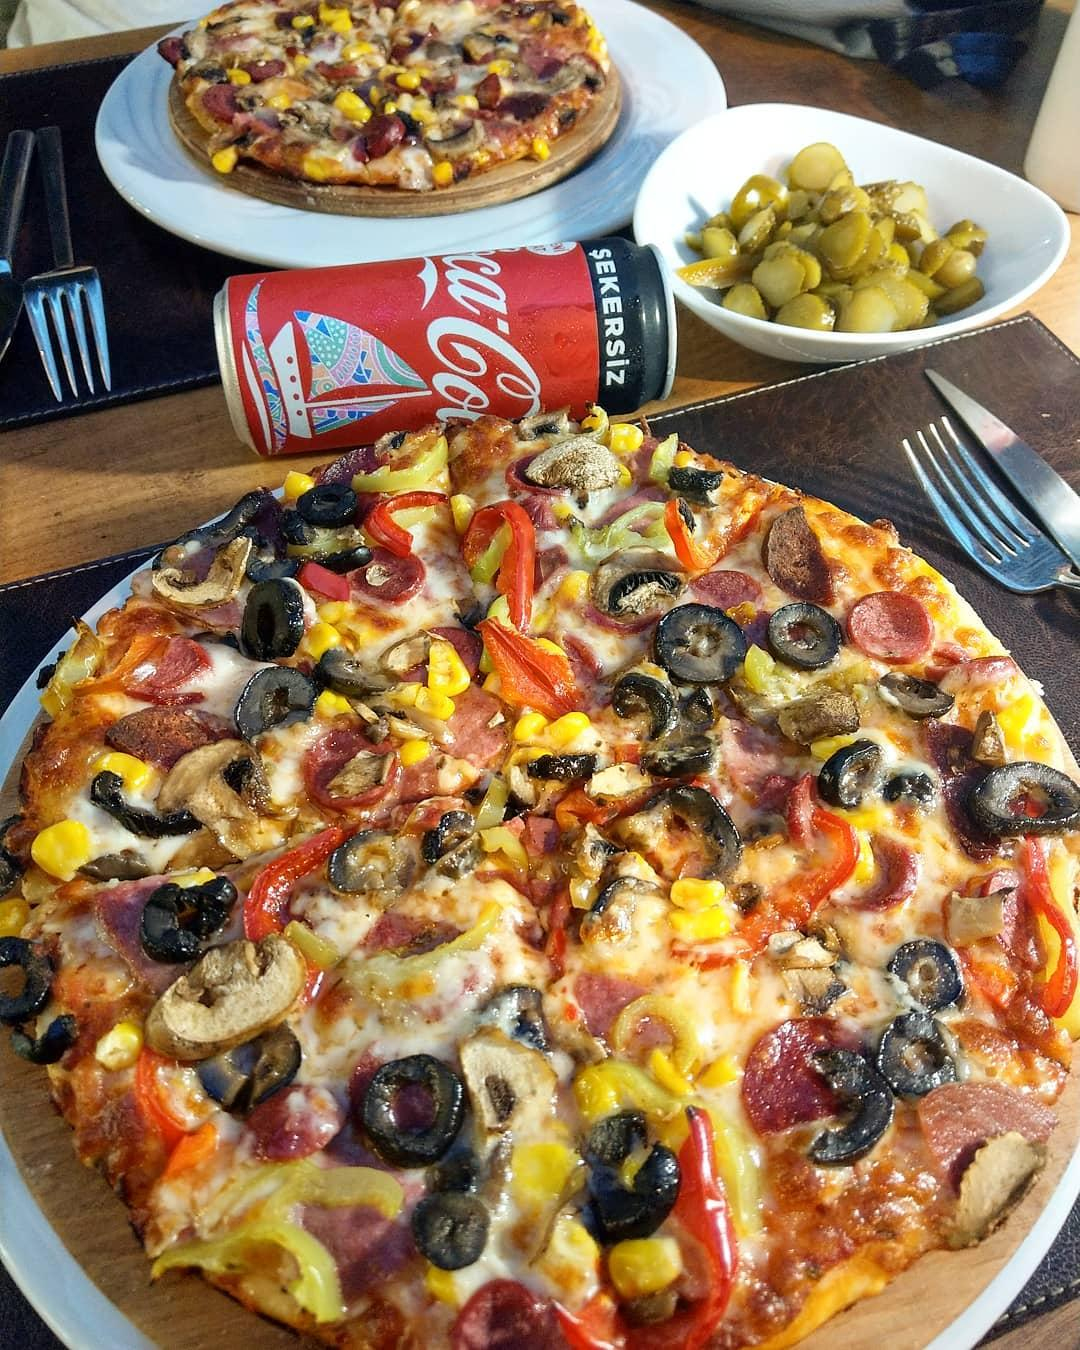Corn: (533, 1218, 601, 1292), (28, 819, 96, 885), (667, 876, 733, 941), (613, 1235, 682, 1293), (301, 601, 350, 652), (426, 638, 469, 694), (515, 715, 592, 746), (281, 467, 318, 500), (335, 90, 369, 121), (316, 692, 353, 719), (384, 65, 426, 84), (322, 8, 352, 29), (398, 739, 424, 762), (430, 161, 454, 183), (344, 42, 370, 58), (269, 91, 290, 111), (532, 137, 547, 158), (490, 58, 508, 75), (295, 14, 312, 25)
Ham: (739, 1022, 881, 1126), (917, 1074, 1056, 1163), (311, 1199, 412, 1287), (97, 878, 172, 984), (127, 629, 216, 705), (853, 587, 936, 662), (358, 903, 476, 954), (456, 1286, 550, 1350), (431, 682, 508, 759), (252, 1082, 339, 1147), (725, 731, 801, 802), (570, 972, 645, 1040), (108, 708, 220, 752), (687, 569, 758, 613), (950, 657, 1014, 705), (365, 115, 404, 156), (385, 73, 453, 93), (515, 35, 544, 71), (204, 85, 234, 117), (158, 34, 187, 65), (318, 61, 366, 79), (476, 73, 501, 105), (250, 58, 284, 82)
Mushroom: (140, 944, 305, 1052), (158, 738, 268, 844), (947, 1135, 1036, 1246), (458, 1033, 555, 1132), (762, 501, 832, 598), (593, 550, 683, 616), (151, 546, 241, 609), (776, 689, 862, 743), (525, 443, 611, 479), (943, 893, 1006, 941), (544, 57, 605, 95), (430, 123, 484, 154), (187, 58, 228, 78), (465, 32, 493, 58), (234, 88, 264, 109)
Olives: (581, 1105, 682, 1229), (593, 682, 717, 773), (368, 1052, 458, 1163), (192, 1025, 303, 1110), (809, 1049, 894, 1159), (971, 762, 1080, 839), (207, 486, 353, 542), (85, 771, 192, 839), (652, 606, 745, 682), (152, 878, 230, 966), (875, 1014, 961, 1090), (762, 598, 842, 671), (235, 663, 316, 732), (882, 939, 959, 1009), (0, 939, 63, 1025), (414, 1189, 483, 1261), (246, 575, 296, 649), (828, 741, 881, 804), (318, 646, 386, 692), (883, 670, 951, 712)
Peppers: (679, 819, 850, 965), (682, 1104, 739, 1350), (246, 819, 348, 943), (1016, 841, 1080, 1020), (462, 496, 537, 629), (483, 630, 587, 715), (129, 1054, 190, 1135), (370, 490, 442, 553), (658, 501, 709, 570)
Pizza: (0, 431, 1080, 1350), (182, 0, 625, 194)
